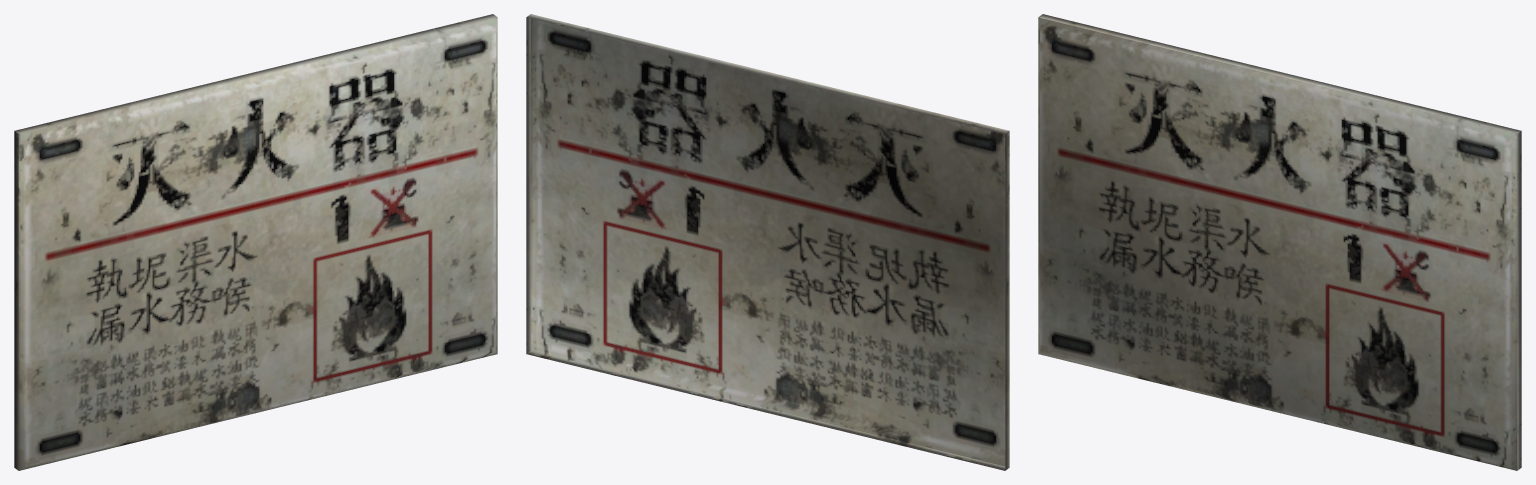
Rendered from sign_fire_extinguisher.dae.
The picture shows the model from 3 angles, left to right: view 1: azimuth 30°, elevation 25°; view 2: azimuth 150°, elevation 25°; view 3: azimuth 330°, elevation 25°; orthographic projection.
Visible parts, largest first — view 1: pCube2; view 2: pCube2; view 3: pCube2.
Boxes of the visible parts, x1,y1,x2,y2 form: pCube2: (14, 14, 497, 470); pCube2: (526, 14, 1009, 470); pCube2: (1038, 14, 1521, 470).
Size of the model in its own units: 0.521 by 0.35 by 0.0153.
